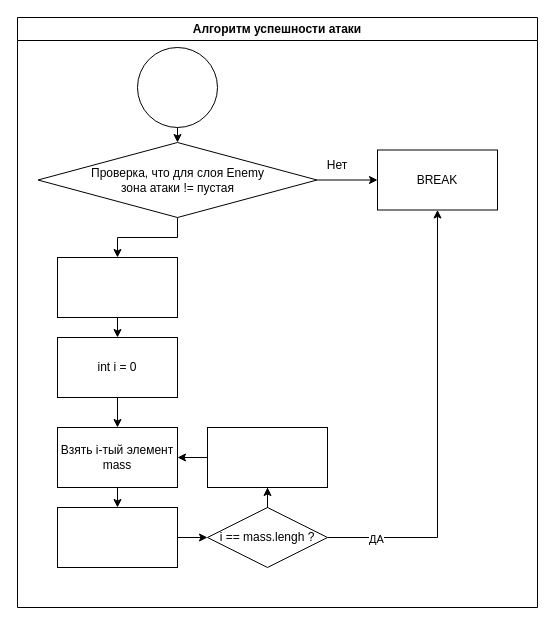
This 555x625 diagram has some shape labels left out. Here are the shapes that lost their labels. From the top down, the centre of each, then its label:
pixel 117 287: Создать массив Всего, что находится в зоне (mass)
pixel 267 457: i++
pixel 117 537: mass.i.алгоритм атаки
